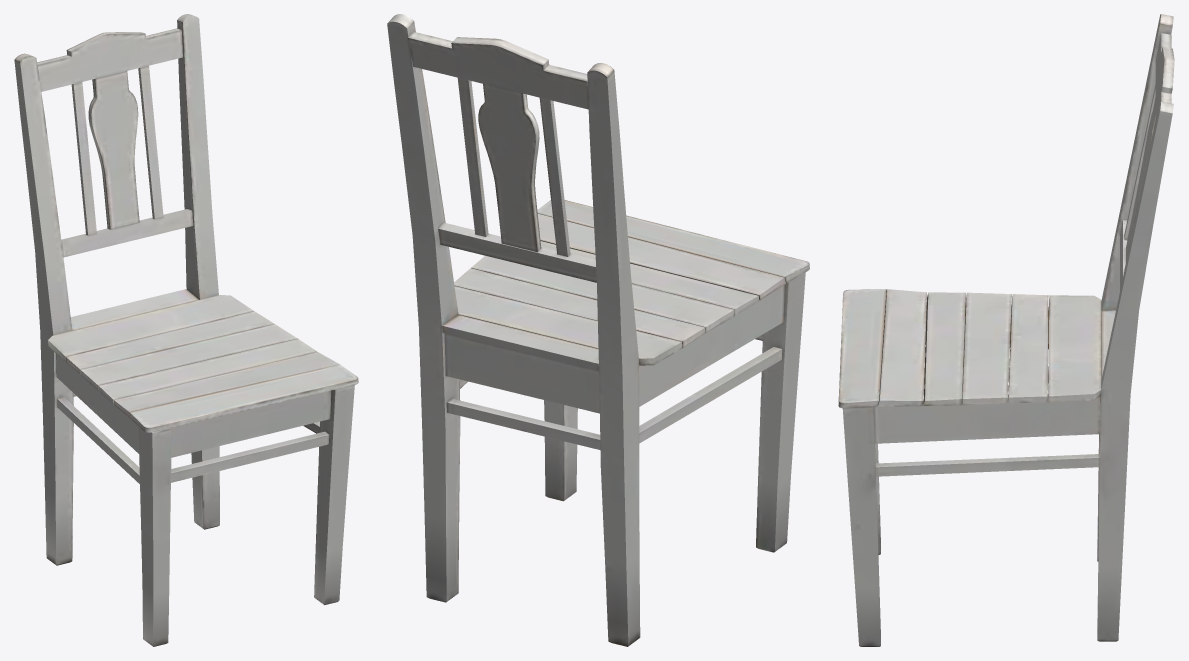
Rendered from chair.glb.
3 views of the same model, side by side, from view 1: azimuth 30°, elevation 25°; view 2: azimuth 150°, elevation 25°; view 3: azimuth 270°, elevation 25° (orthographic). The views are drawn at different scales.
Visible parts, largest first — view 1: painted_wooden_chair_01; view 2: painted_wooden_chair_01; view 3: painted_wooden_chair_01.
Boxes of the visible parts, x1=… form: painted_wooden_chair_01: x1=14, y1=14, x2=358, y2=646; painted_wooden_chair_01: x1=387, y1=14, x2=809, y2=646; painted_wooden_chair_01: x1=838, y1=14, x2=1174, y2=646.
Bounding box in the file's own units: 0.4317 × 0.9565 × 0.5398.
Materials: 1 (1 with a texture image).
